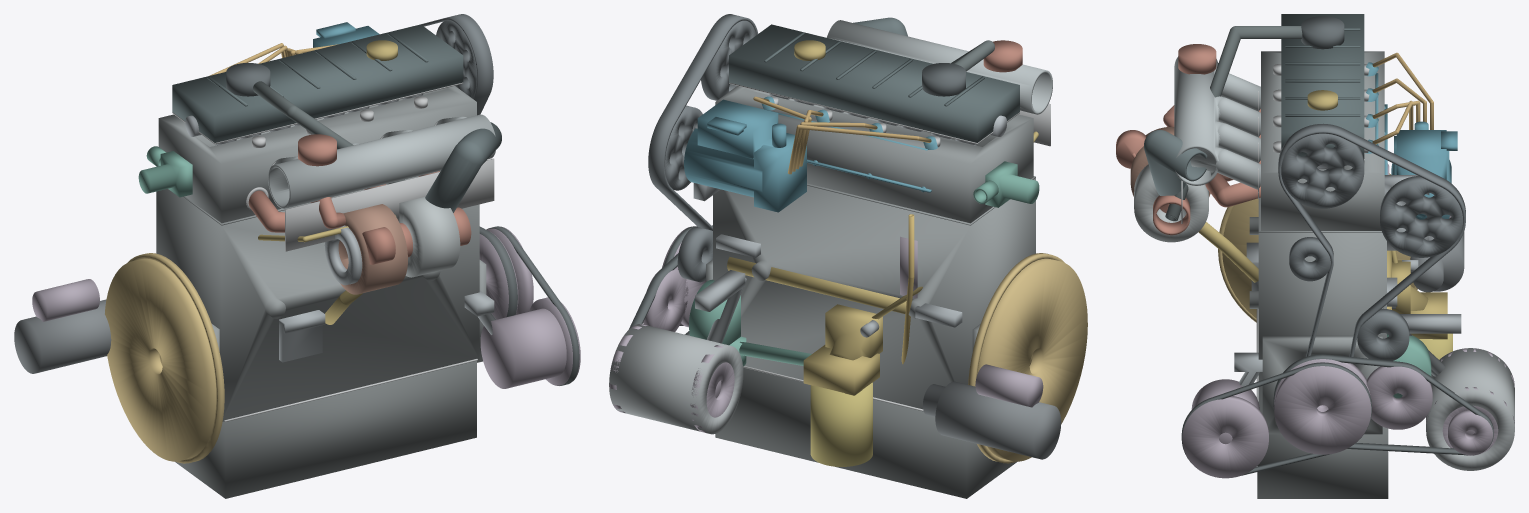
The model's file is engine_assembly.glb.
3 renders of one model, left to right at view 1: azimuth 30°, elevation 25°; view 2: azimuth 150°, elevation 25°; view 3: azimuth 270°, elevation 25°, orthographic. The views are drawn at different scales.
Parts seen in each view (by area): view 1: block, sump, flywheel, valve_cover, head, intake_manifold, steering_pump, heat_shield, starter, turbo_compressor_housing, turbo_turbine_housing, charge_pipe (+20 smaller); view 2: block, head, valve_cover, sump, flywheel, alternator, injection_pump, starter, oil_filter, intake_manifold, timing_belt, oil_cooler (+28 smaller); view 3: block, head, intake_manifold, valve_cover, steering_crank, sump, alternator, steering_pulley, pump_sprocket, cam_sprocket, timing_belt, seal_flange_-1 (+31 smaller).
Boxes of the visible parts, bbox=[...] form: block: bbox=[156, 189, 479, 421]; sump: bbox=[175, 361, 476, 498]; flywheel: bbox=[105, 258, 216, 461]; valve_cover: bbox=[172, 24, 463, 142]; head: bbox=[158, 86, 476, 223]; intake_manifold: bbox=[268, 114, 496, 208]; steering_pump: bbox=[480, 308, 566, 388]; heat_shield: bbox=[285, 158, 494, 251]; starter: bbox=[14, 299, 111, 373]; turbo_compressor_housing: bbox=[399, 197, 460, 277]; turbo_turbine_housing: bbox=[338, 204, 407, 294]; charge_pipe: bbox=[425, 122, 501, 212]; block: bbox=[713, 178, 1035, 409]; head: bbox=[715, 86, 1033, 223]; valve_cover: bbox=[729, 24, 1019, 142]; sump: bbox=[715, 367, 1017, 498]; flywheel: bbox=[977, 258, 1087, 461]; alternator: bbox=[609, 324, 743, 434]; injection_pump: bbox=[684, 99, 806, 212]; starter: bbox=[923, 381, 1061, 459]; oil_filter: bbox=[810, 382, 872, 466]; intake_manifold: bbox=[827, 20, 1052, 114]; timing_belt: bbox=[648, 14, 758, 230]; oil_cooler: bbox=[803, 345, 879, 395]; block: bbox=[1249, 217, 1395, 413]; head: bbox=[1261, 51, 1384, 230]; intake_manifold: bbox=[1174, 56, 1260, 189]; valve_cover: bbox=[1281, 14, 1364, 158]; steering_crank: bbox=[1274, 362, 1371, 454]; sump: bbox=[1257, 427, 1388, 498]; alternator: bbox=[1426, 348, 1514, 470]; steering_pulley: bbox=[1182, 396, 1268, 478]; pump_sprocket: bbox=[1380, 176, 1462, 257]; cam_sprocket: bbox=[1281, 133, 1364, 208]; timing_belt: bbox=[1278, 123, 1465, 356]; seal_flange_-1: bbox=[1262, 335, 1382, 434].
Size of the model in its own units: 0.6885 by 0.611 by 0.575.
